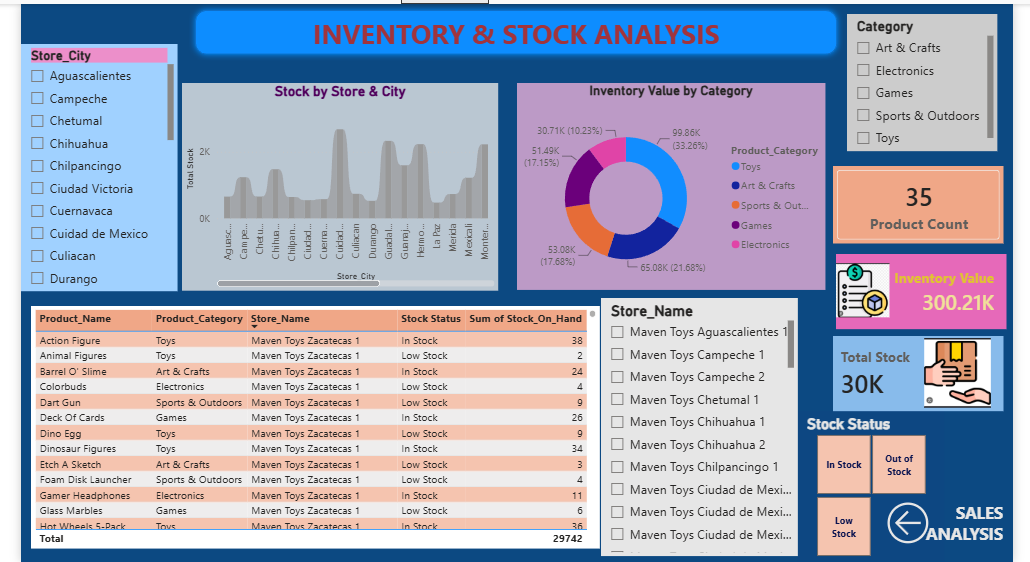

What the dashboard file says about the page in this screenshot:
{"tool":"powerbi","page":{"name":"Page 4","canvas":[1280,720],"ordinal":3},"visuals":[{"type":"shape","box":[217.3,0,844.2,73.1],"z":0},{"type":"slicer","fields":{"Values":["maven_toys inventory.Stock Status"]},"box":[1001.9,525,190.4,194.2],"z":1000},{"type":"cardVisual","fields":{"Data":["A Measures.Total Stock"]},"box":[1048.1,428.8,220.1,96.8],"z":2000},{"type":"slicer","fields":{"Values":["maven_toys stores.Store_Name"]},"box":[748.1,378.8,253.8,332.7],"z":3000},{"type":"slicer","fields":{"Values":["maven_toys stores.Store_City"]},"box":[0,51.1,202.5,318.7],"z":4000},{"type":"slicer","fields":{"Values":["maven_toys products.Product_Category"]},"box":[1065.4,13.5,194.2,176.9],"z":5000},{"type":"cardVisual","fields":{"Data":["A Measures.Inventory Value"]},"box":[1051.9,323.1,220.1,96.8],"z":6000},{"type":"cardVisual","fields":{"Data":["A Measures.Product Count"]},"box":[1048.1,209.6,220.1,100.4],"z":7000},{"type":"donutChart","title":"Inventory Value by Category","fields":{"Category":["maven_toys products.Product_Category"],"Y":["A Measures.Inventory Value"]},"box":[640.4,101.9,398.1,267.3],"z":8000},{"type":"tableEx","fields":{"Values":["maven_toys products.Product_Name","maven_toys products.Product_Category","maven_toys stores.Store_Name","maven_toys inventory.Stock Status","Sum(maven_toys inventory.Stock_On_Hand)"]},"box":[12.3,389.1,734.2,313.4],"z":9000},{"type":"ribbonChart","title":" Stock by Store & City","fields":{"Category":["maven_toys stores.Store_City","maven_toys stores.Store_Name"],"Y":["A Measures.Total Stock"]},"box":[207.8,102.1,408.5,267.6],"z":10000},{"type":"actionButton","box":[1111.5,636.5,160.2,66.9],"z":11000},{"type":"image","box":[1157.7,430.8,101.9,90.4],"z":12000},{"type":"image","box":[1051.9,321.2,69.2,96.2],"z":13000}]}

Visuals, with their boxes in screenshot pixels (x1, y1, x2, y2):
shape: <region>186, 3, 838, 59</region>
slicer - maven_toys inventory.Stock Status: <region>792, 408, 939, 558</region>
cardVisual - A Measures.Total Stock: <region>827, 334, 997, 408</region>
slicer - maven_toys stores.Store_Name: <region>596, 295, 792, 552</region>
slicer - maven_toys stores.Store_City: <region>19, 42, 175, 288</region>
slicer - maven_toys products.Product_Category: <region>841, 13, 991, 150</region>
cardVisual - A Measures.Inventory Value: <region>830, 252, 1000, 327</region>
cardVisual - A Measures.Product Count: <region>827, 164, 997, 242</region>
"Inventory Value by Category" donutChart: <region>513, 81, 820, 288</region>
tableEx - maven_toys products.Product_Name x maven_toys products.Product_Category: <region>28, 303, 595, 545</region>
" Stock by Store & City" ribbonChart: <region>179, 81, 494, 288</region>
actionButton: <region>876, 494, 1000, 545</region>
image: <region>912, 335, 991, 405</region>
image: <region>830, 250, 884, 325</region>
